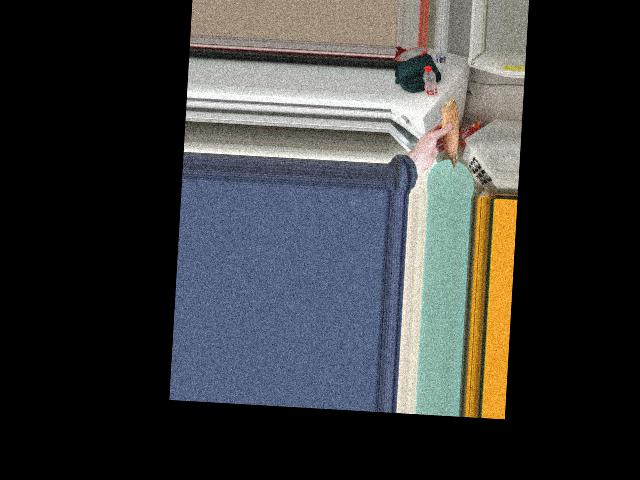sweet_potato: (434, 105, 460, 167)
